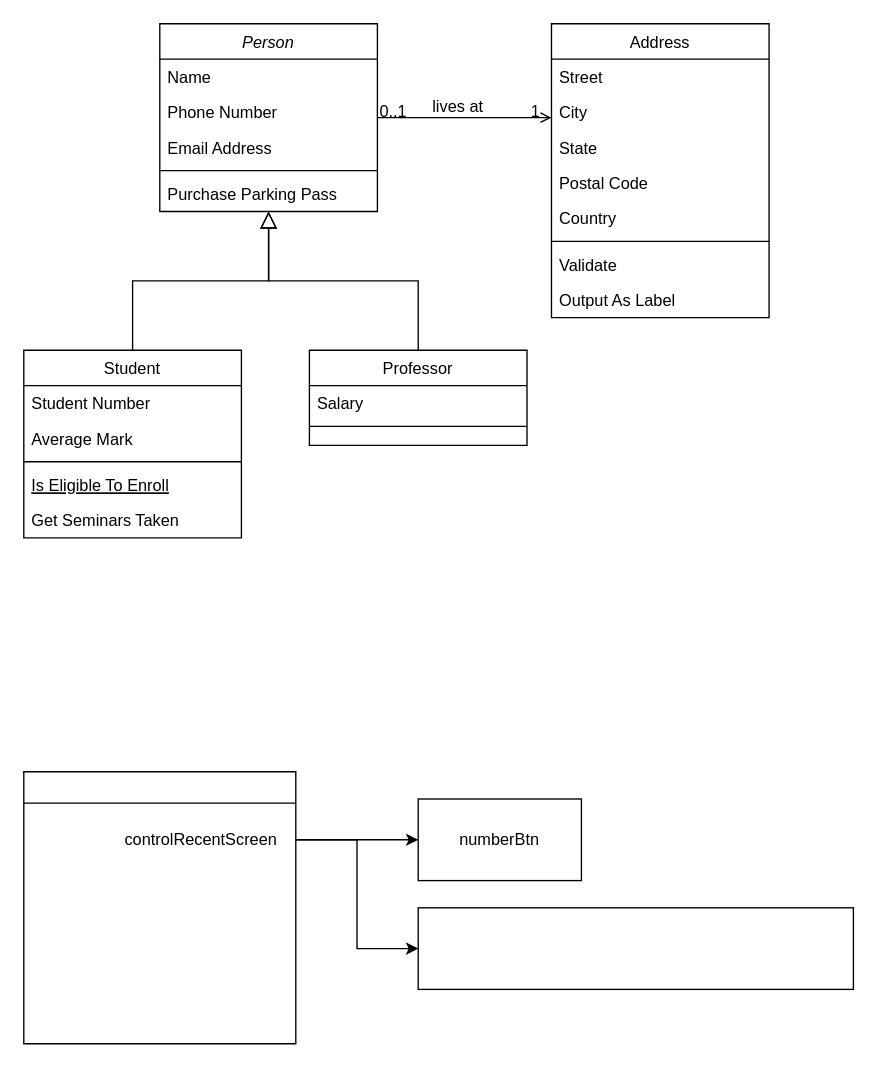
The diagram is 877 pixels wide and 1068 high, and some of its shapes have lost their labels. The shapes that lost their labels are listed below. From the top down, each one's box as (x1, y1, x2, y2) in pixels, then its label:
(22, 770, 296, 1044): Form1.c
(417, 906, 853, 989): expressionBtn : 1.recentScreen -> resultScreen으로 식을 뿌려줌 2.
